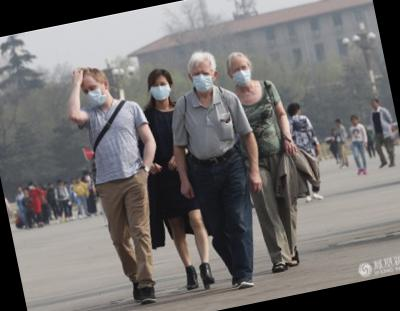with_mask: (190, 66, 217, 96), (81, 82, 108, 111), (230, 61, 254, 88), (148, 80, 173, 104)
without_mask: (371, 99, 379, 109), (351, 116, 359, 125)
